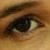eye: (15, 20, 31, 31)
